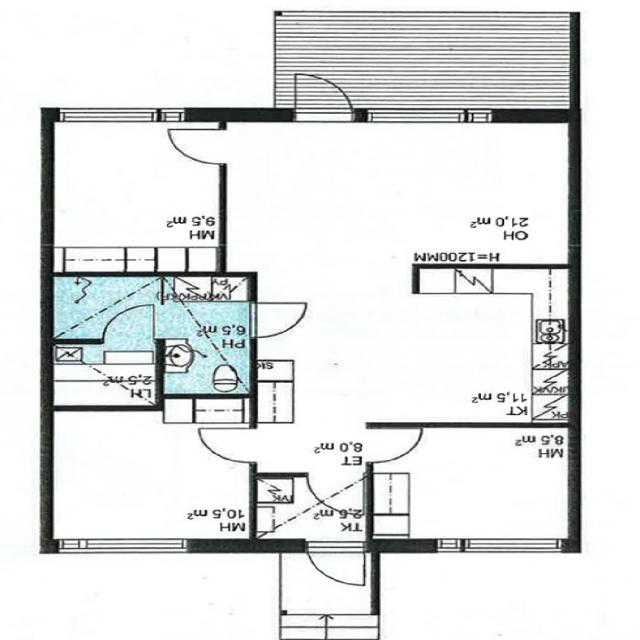door: (307, 539, 364, 591), (296, 70, 352, 122), (308, 472, 363, 514), (104, 305, 154, 344), (250, 303, 307, 337), (366, 428, 423, 462), (200, 428, 256, 462), (170, 129, 226, 163)
